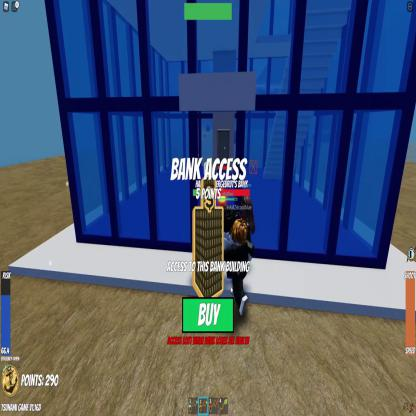Roblox-Avatar: (228, 219, 253, 316)
